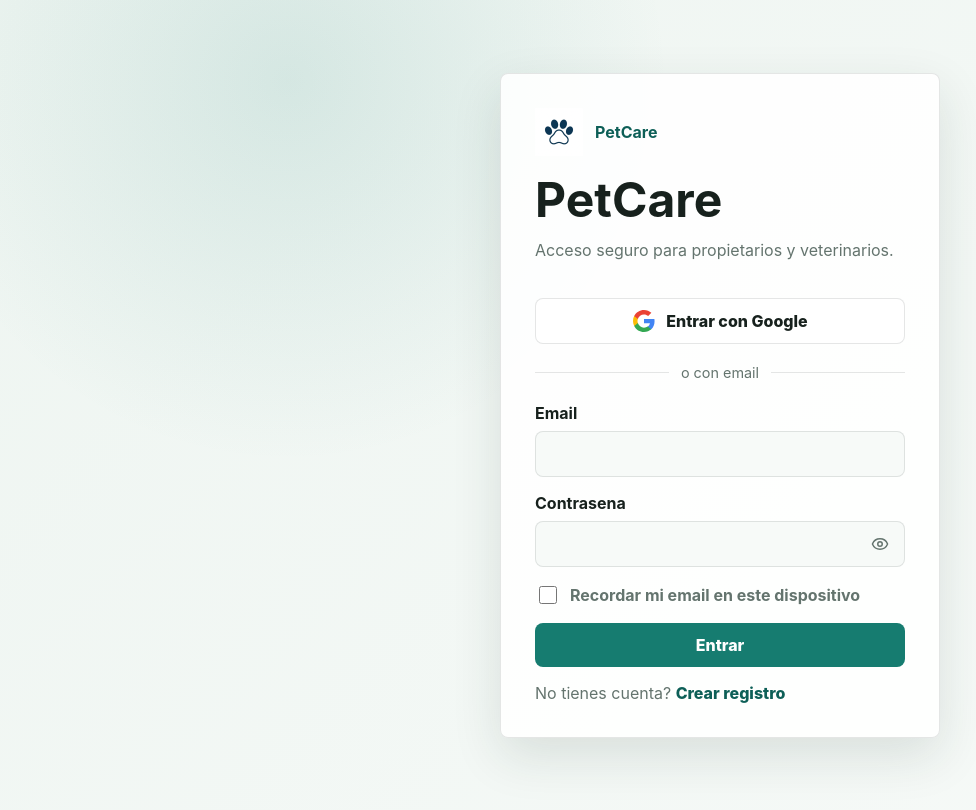
Scenario: Login — lo que ve el usuario › muestra error con credenciales incorrectas
Type "mal@correo.com" into the field at (720,454), box [535,430,905,476]
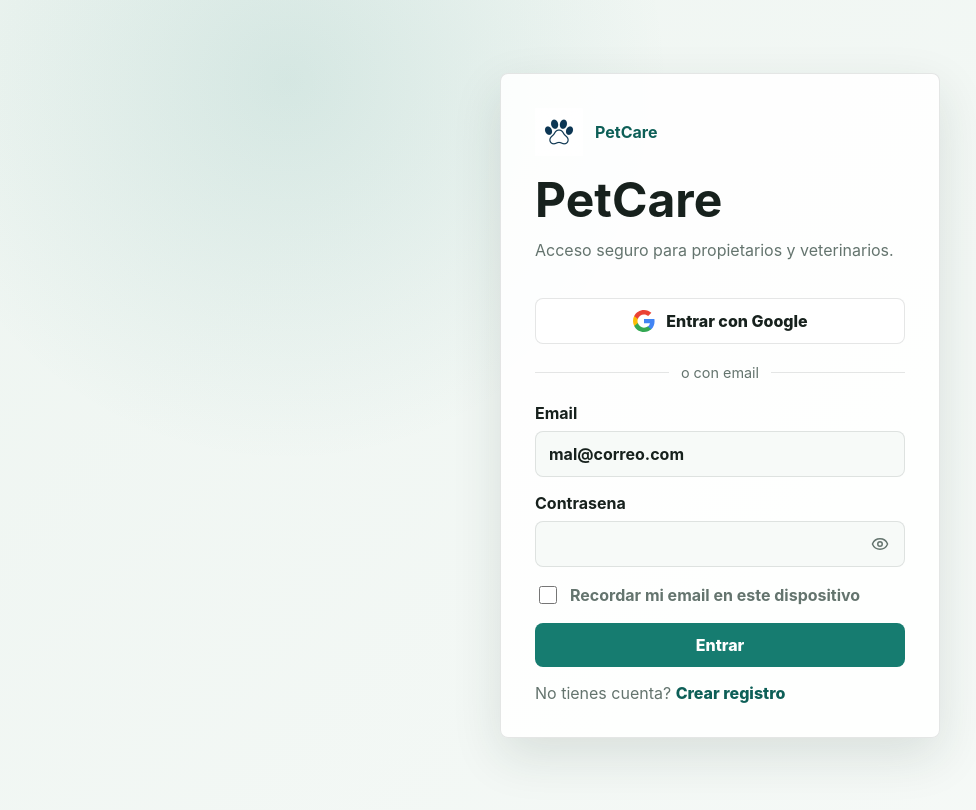
Type "wrongpassword" into the password field labelled "Contrasena" at (720,544), box [535,520,905,566]
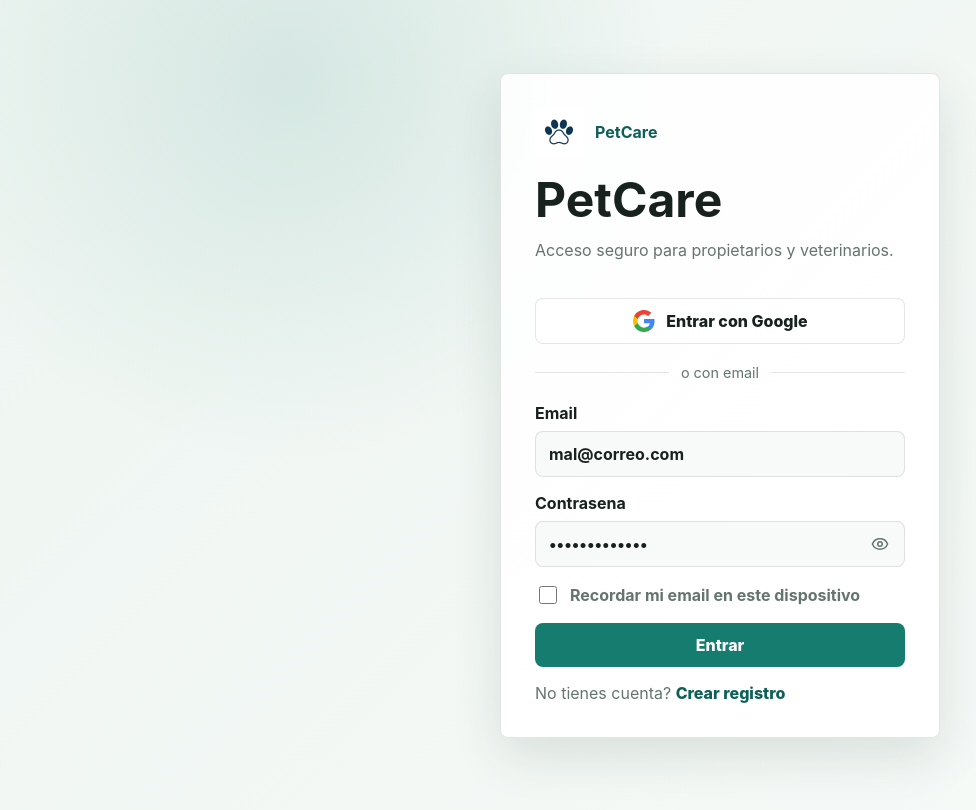
Click the button "Entrar" at (720,644), box [535,622,905,666]
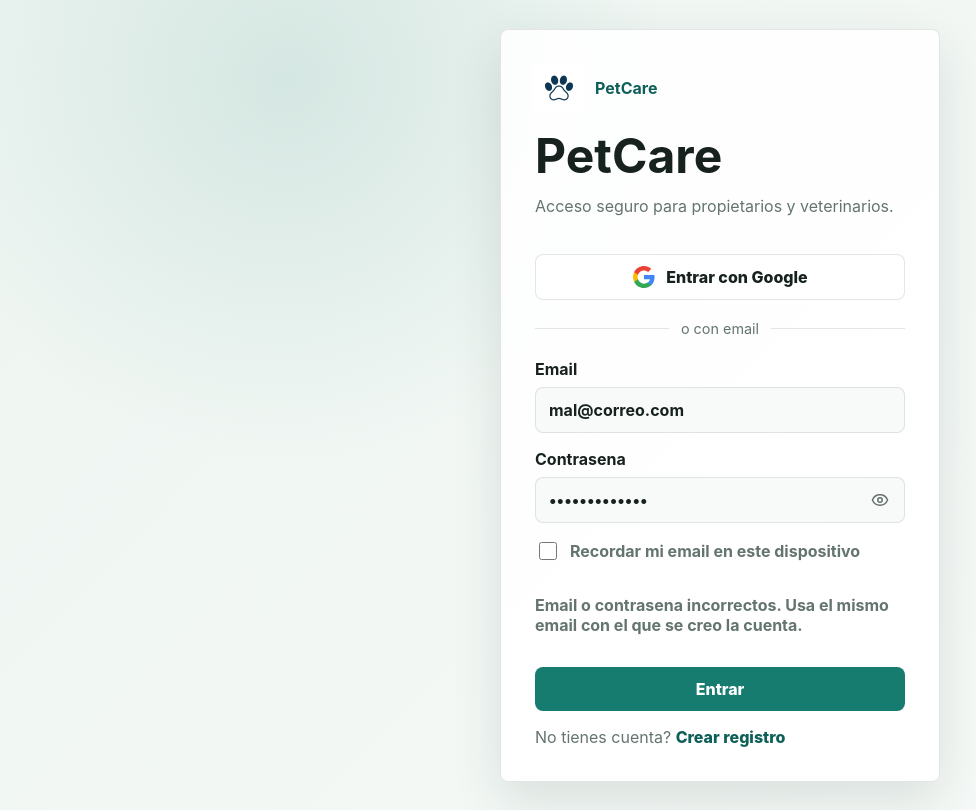
Now the text "Email o contrasena incorrectos" is shown, box [535,594,889,634]
